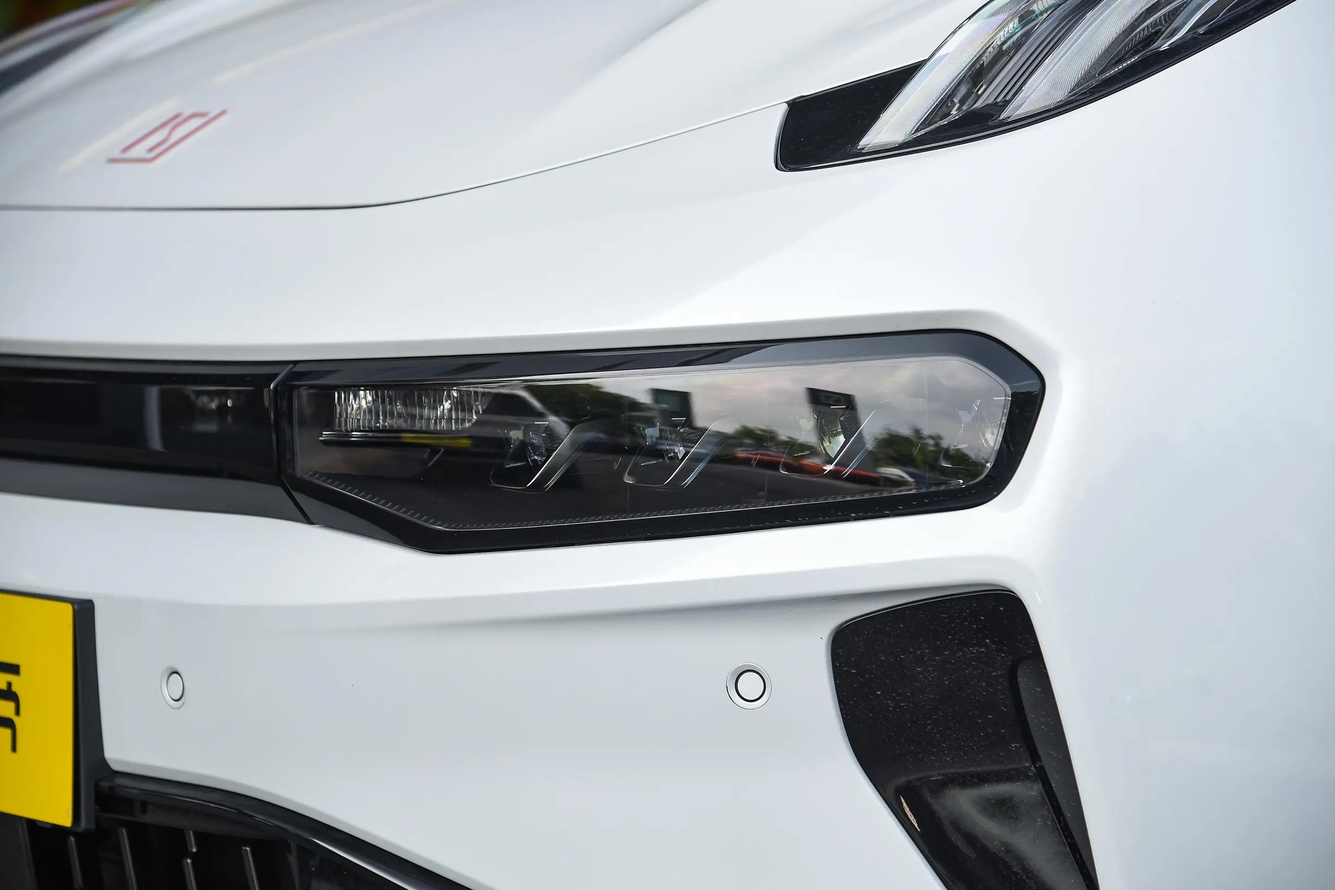ZEEKR: (108, 107, 225, 161)
